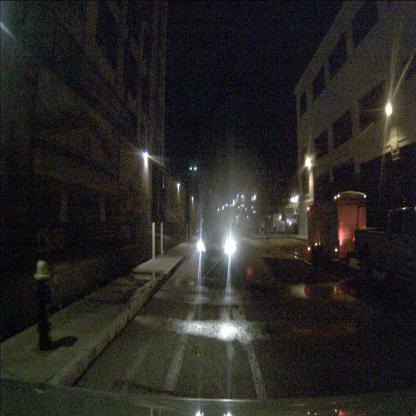vehicle-car: (198, 222, 240, 280)
vehicle-truck: (352, 205, 416, 300)
